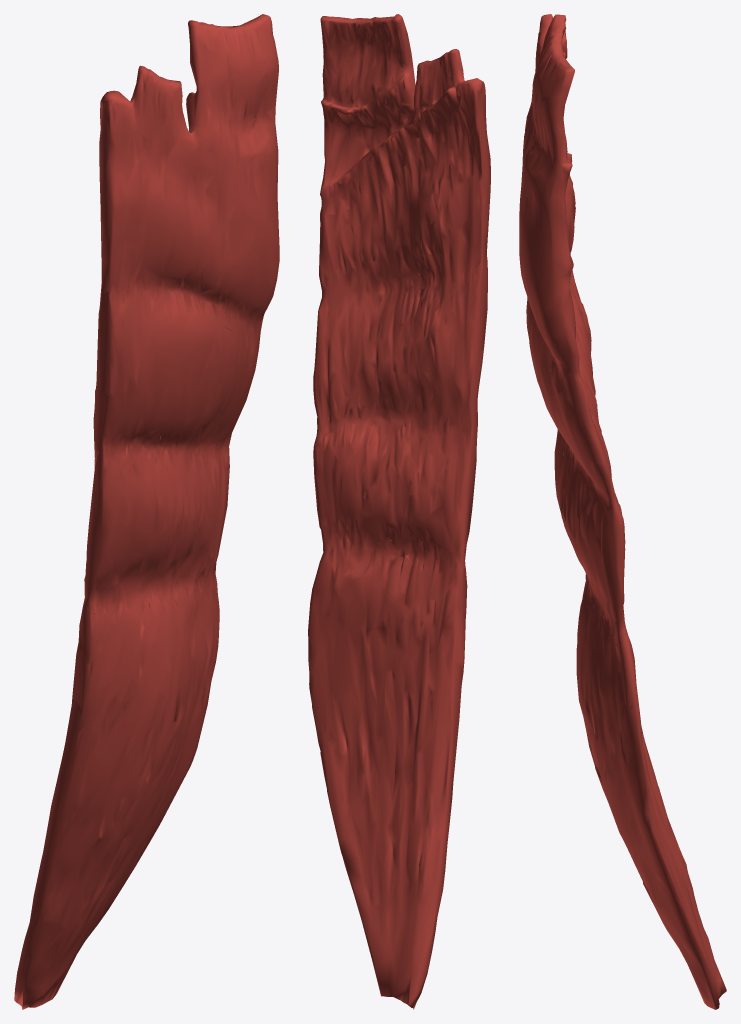
Rendered from musculos-rectus-abdominis-muscle-l.glb.
3 renders of one model, left to right at view 1: azimuth 30°, elevation 25°; view 2: azimuth 150°, elevation 25°; view 3: azimuth 270°, elevation 25°, orthographic. The views are drawn at different scales.
Visible parts, largest first — view 1: Rectus abdominis muscle.l; view 2: Rectus abdominis muscle.l; view 3: Rectus abdominis muscle.l.
Boxes of the visible parts, x1,y1,x2,y2 form: Rectus abdominis muscle.l: (14,14,279,1009); Rectus abdominis muscle.l: (308,14,490,1009); Rectus abdominis muscle.l: (519,14,726,1009).
Size of the model in its own units: 0.0787 by 0.4085 by 0.0745.
